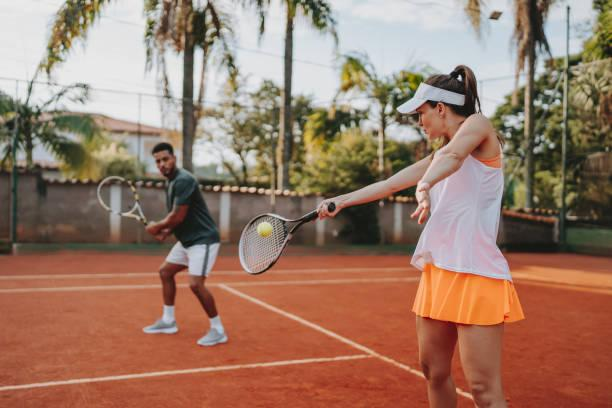ball_tennis: (256, 222, 273, 238)
